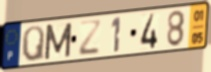1: (110, 15, 122, 54)
4: (139, 11, 159, 51)
8: (166, 9, 186, 49)
M: (43, 21, 74, 62)
Q: (21, 24, 46, 64)
Z: (77, 20, 103, 58)
